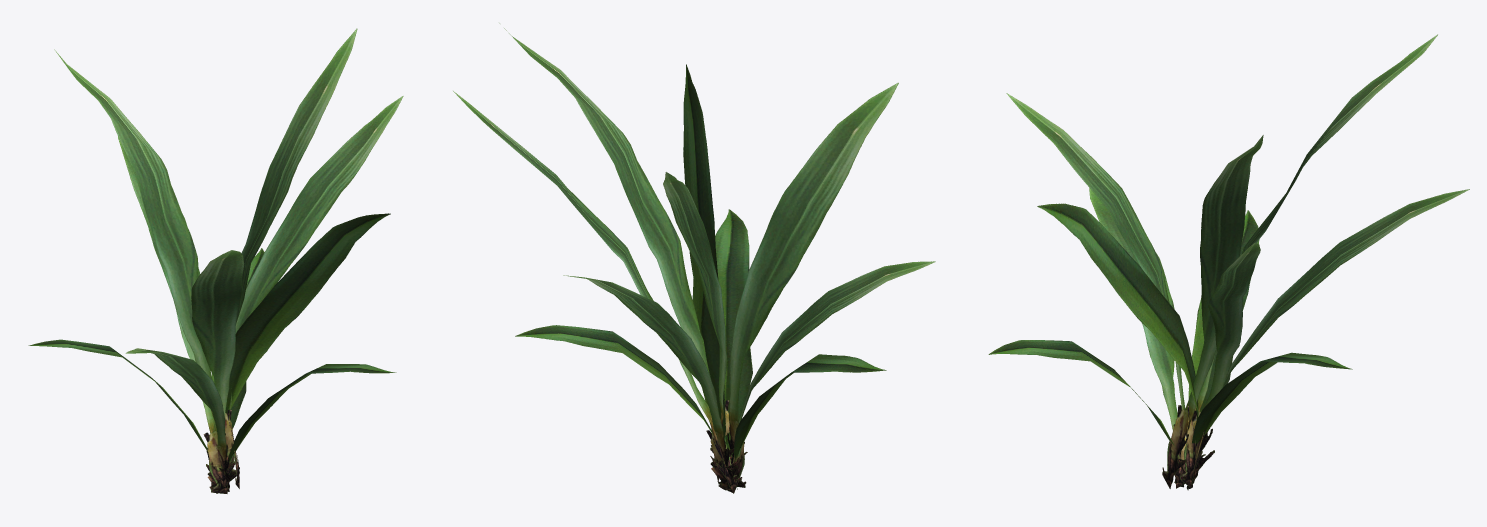
Rendered from MK4_Trop_Plant3.DAE.
3 views of the same model, side by side, from view 1: azimuth 30°, elevation 25°; view 2: azimuth 150°, elevation 25°; view 3: azimuth 270°, elevation 25° (orthographic). The views are drawn at different scales.
Visible parts, largest first — view 1: MK4_Trop_Plant3; view 2: MK4_Trop_Plant3; view 3: MK4_Trop_Plant3.
Boxes of the visible parts, x1,y1,x2,y2 form: MK4_Trop_Plant3: (28,28,403,493); MK4_Trop_Plant3: (453,23,935,493); MK4_Trop_Plant3: (988,34,1469,490).
Bounding box in the file's own units: 1.37 × 1.36 × 1.4.
